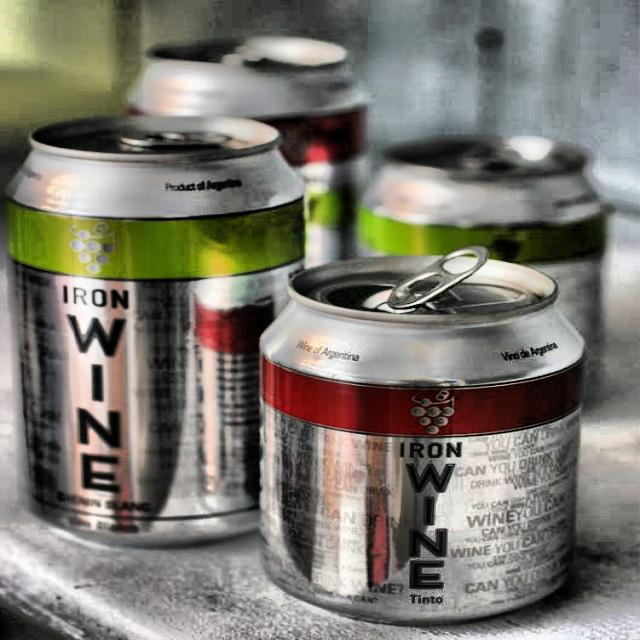can: (0, 108, 312, 556), (248, 244, 592, 633), (359, 133, 612, 413), (121, 29, 382, 287)
